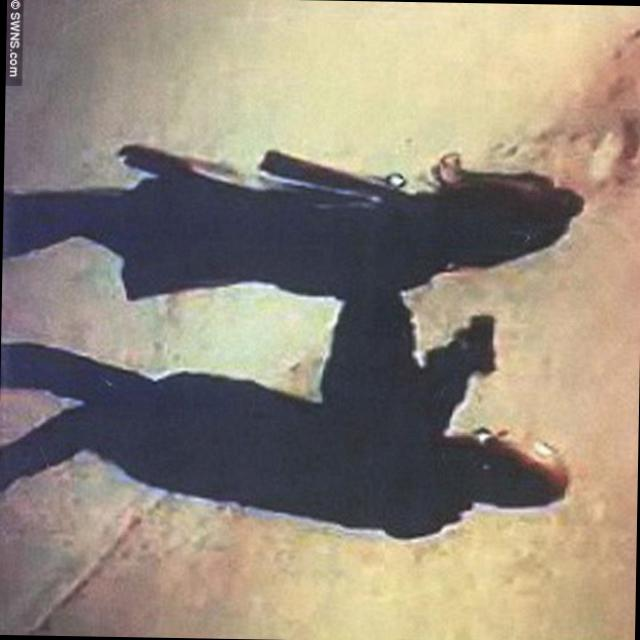handgun: (424, 305, 505, 380)
